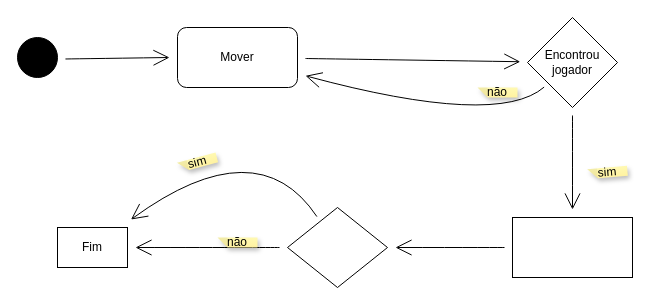
The diagram is 652 pixels wide and 305 high, and some of its shapes have lost their labels. Each missing label, with the centre of its shape:
"Batalhar" belongs at pixel 572 247.
"Matou jogador" belongs at pixel 337 247.
